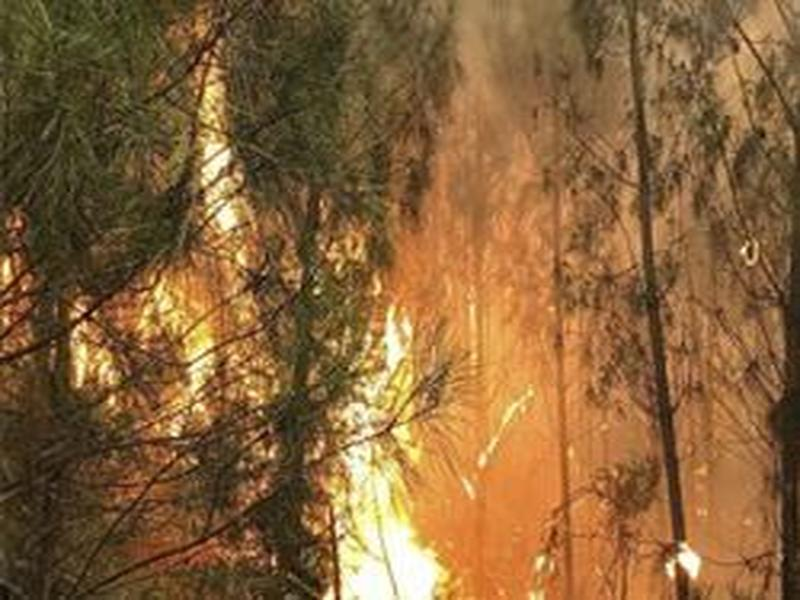FIRE: (89, 145, 495, 600)
